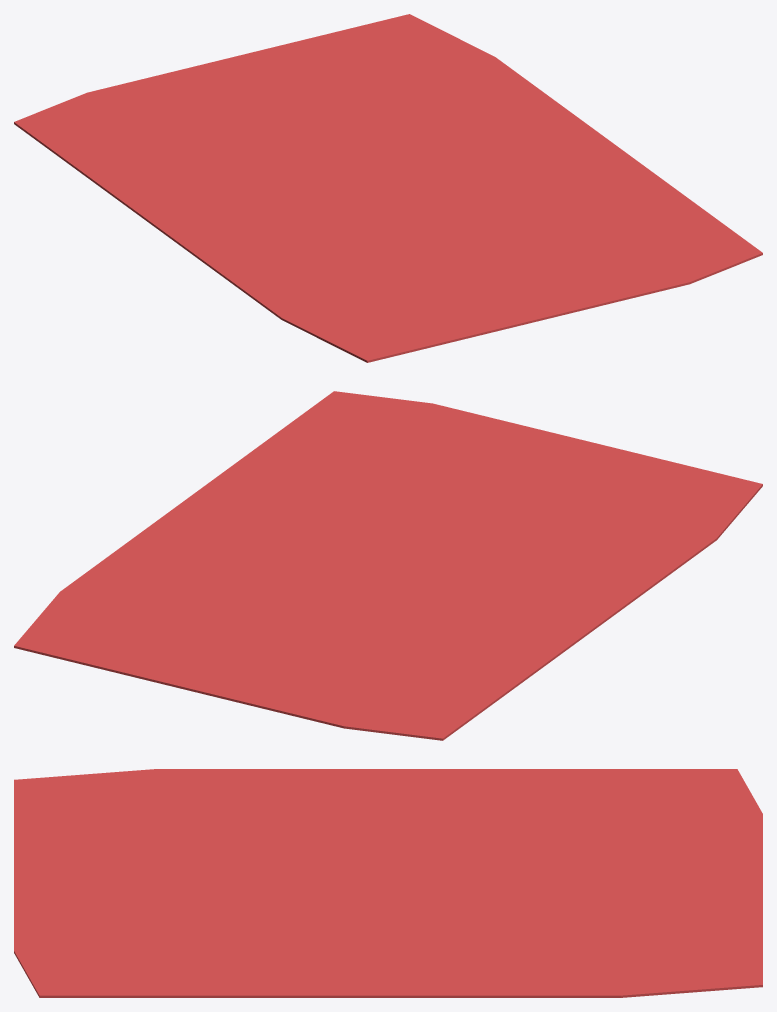
File: Carta_Dorso_Espanola.glb
3 renders of one model, top to bottom at view 1: azimuth 30°, elevation 25°; view 2: azimuth 150°, elevation 25°; view 3: azimuth 270°, elevation 25°, orthographic. The views are drawn at different scales.
Visible parts, largest first — view 1: Carta_Dorso_Espanola; view 2: Carta_Dorso_Espanola; view 3: Carta_Dorso_Espanola.
Part boxes in pixels (x1,y1,x2,y2): Carta_Dorso_Espanola: (14,14,762,362); Carta_Dorso_Espanola: (14,391,762,740); Carta_Dorso_Espanola: (14,769,762,997).
Size of the model in its own units: 0.063 by 0.0003 by 0.088.
